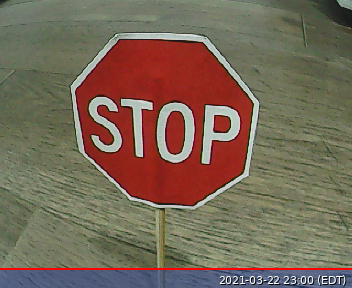Stop: (69, 30, 259, 210)
